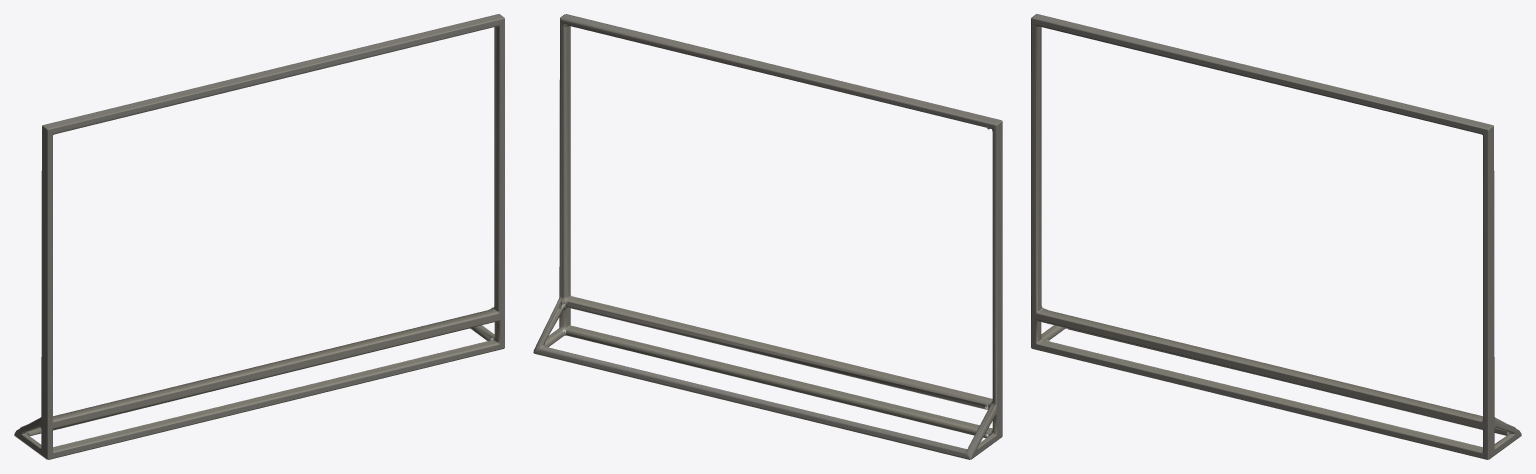
Rendered from wide-blank-screen.glb.
3 renders of one model, left to right at view 1: azimuth 30°, elevation 25°; view 2: azimuth 150°, elevation 25°; view 3: azimuth 330°, elevation 25°, orthographic. The views are drawn at different scales.
Visible parts, largest first — view 1: Wide blank projection screen; view 2: Wide blank projection screen; view 3: Wide blank projection screen.
Part boxes in pixels (x1,y1,x2,y2): Wide blank projection screen: (14, 14, 504, 459); Wide blank projection screen: (533, 14, 1002, 459); Wide blank projection screen: (1031, 14, 1521, 459).
Bounding box in the file's own units: 0.998 × 0.6895 × 0.127.
1 material, 1 textured.
